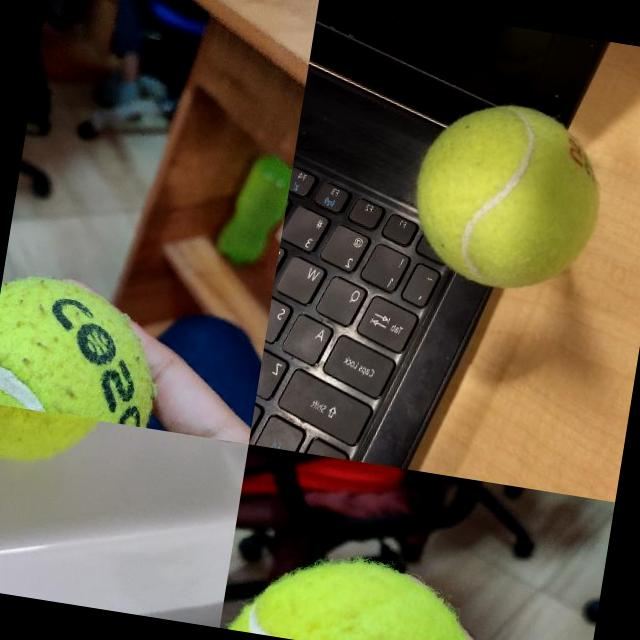Tennis Ball: (401, 90, 615, 304), (0, 269, 172, 428), (221, 542, 499, 640)
